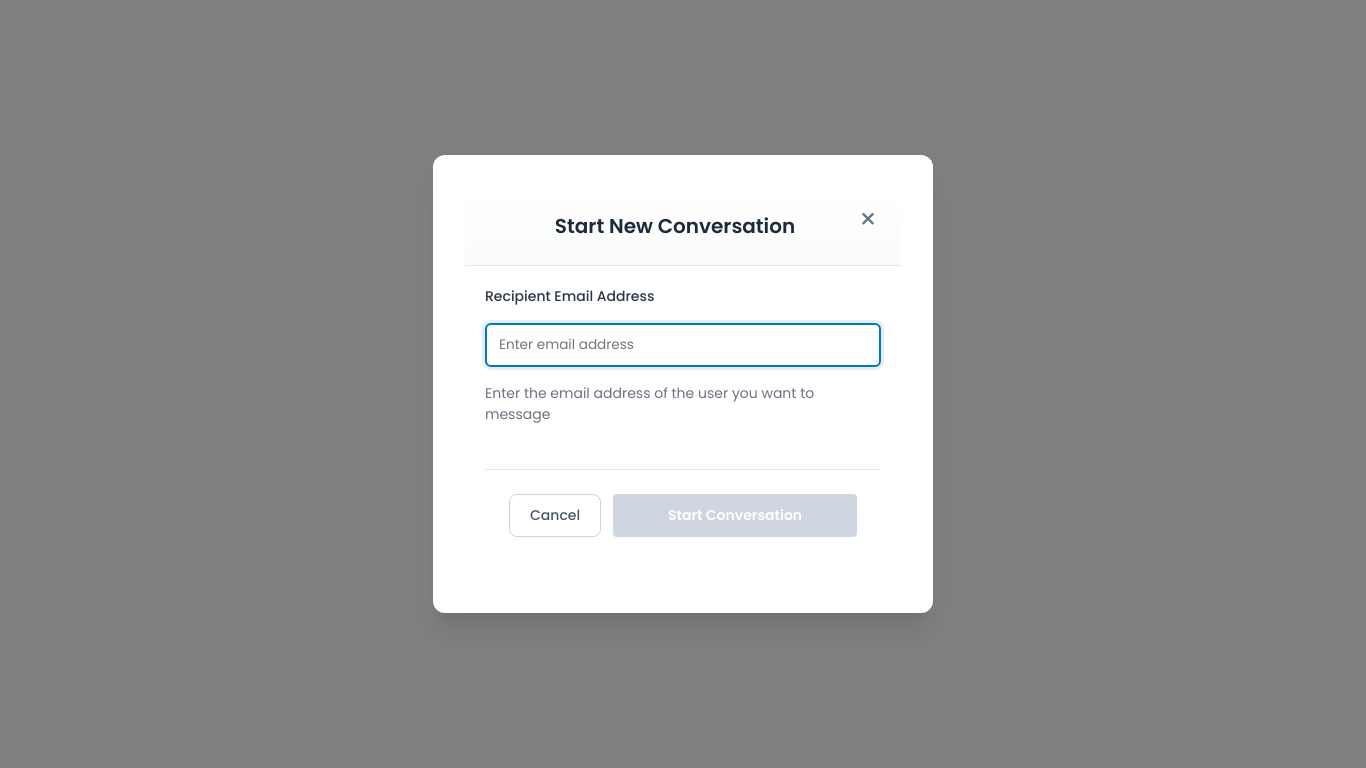
NewConversationModal › disables submit button while loading
In the field labelled "Recipient Email Address": (683, 345) [485,323,881,367], type "test@test.com"
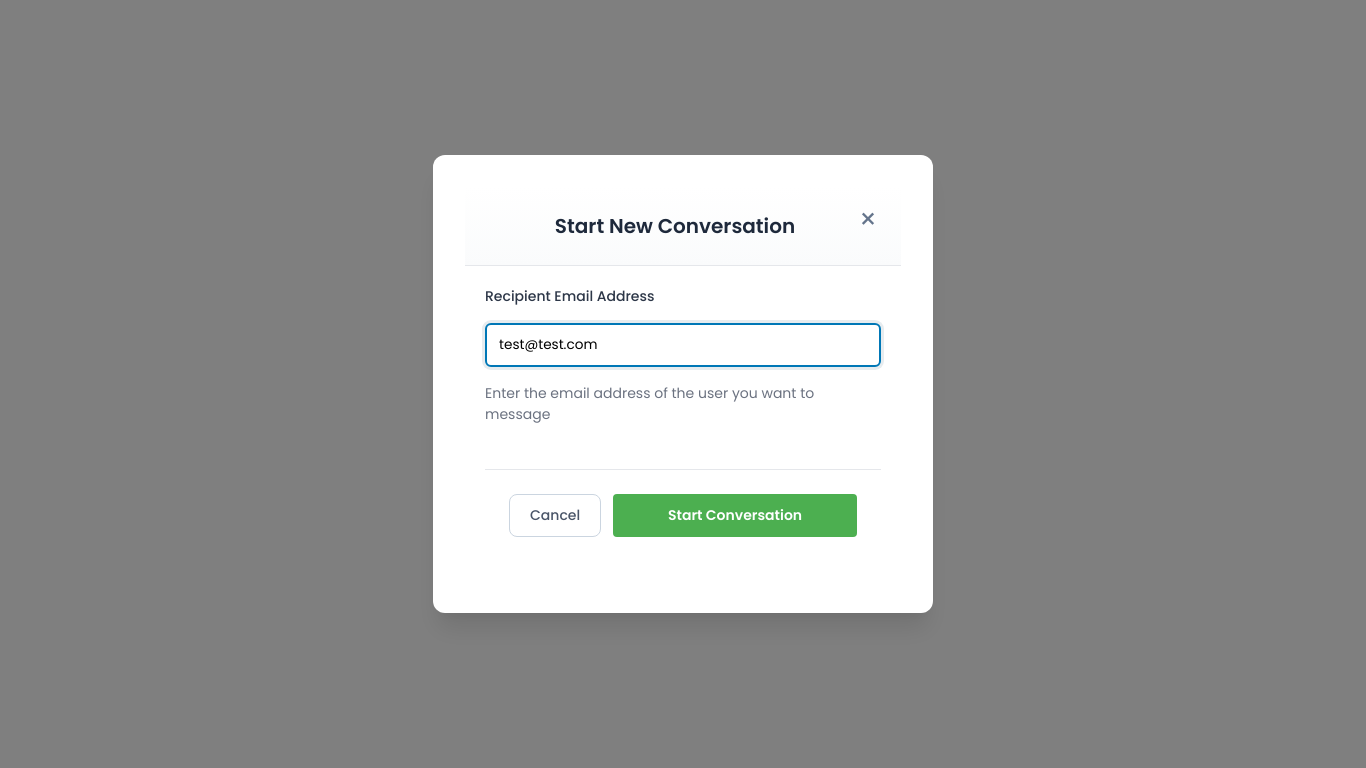
Click the button "Start Conversation": (735, 516) [613,494,857,537]
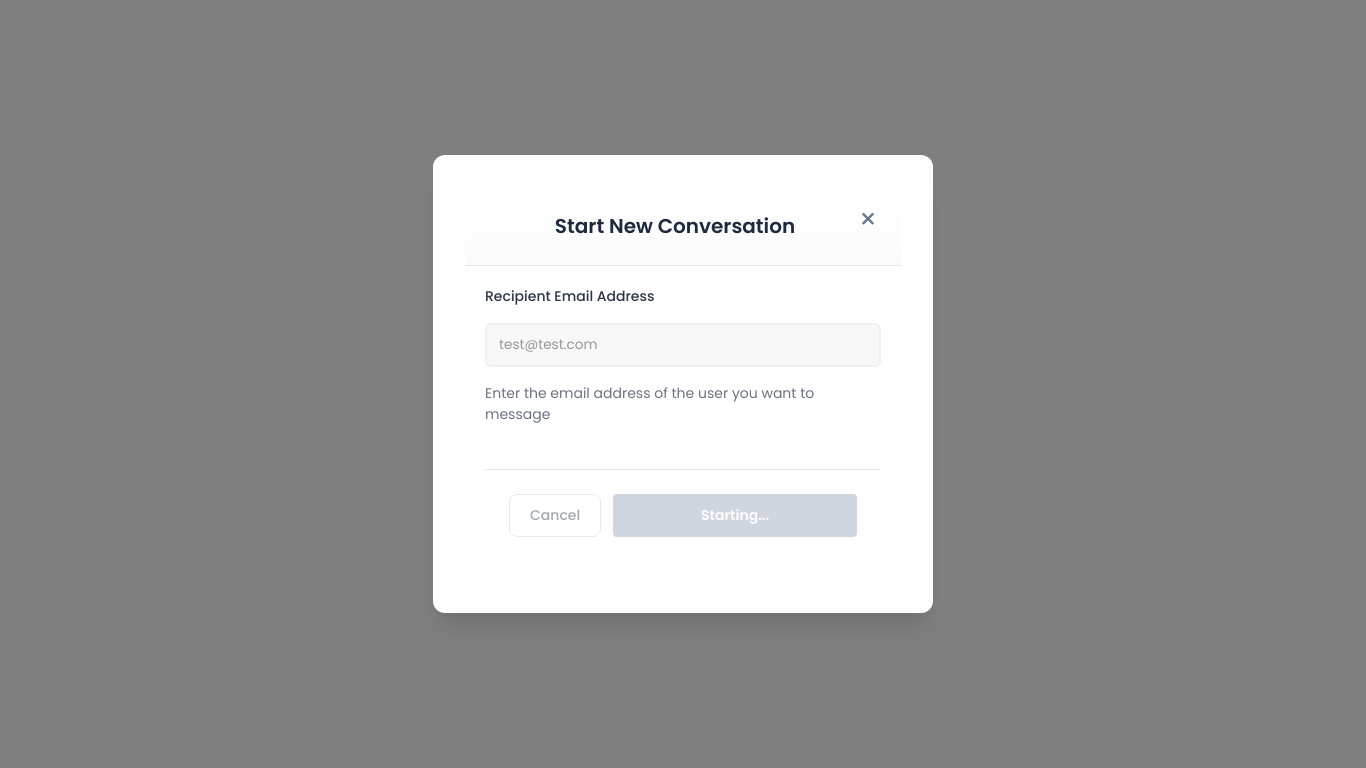
expect the button "Starting..." is disabled: met, box [613,494,857,537]
